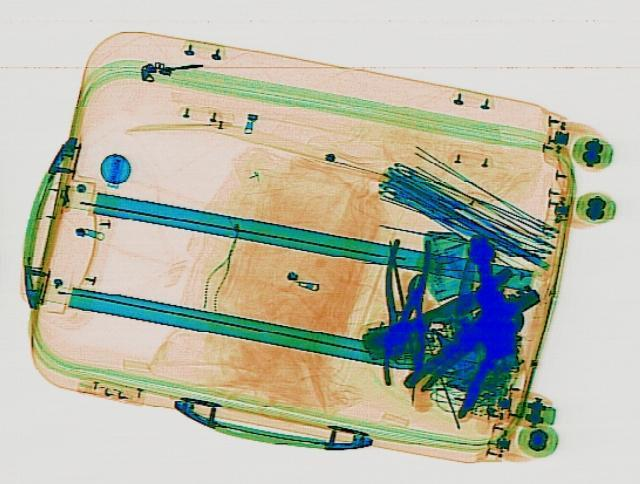Pliers: (376, 268, 438, 386), (374, 236, 430, 350)
